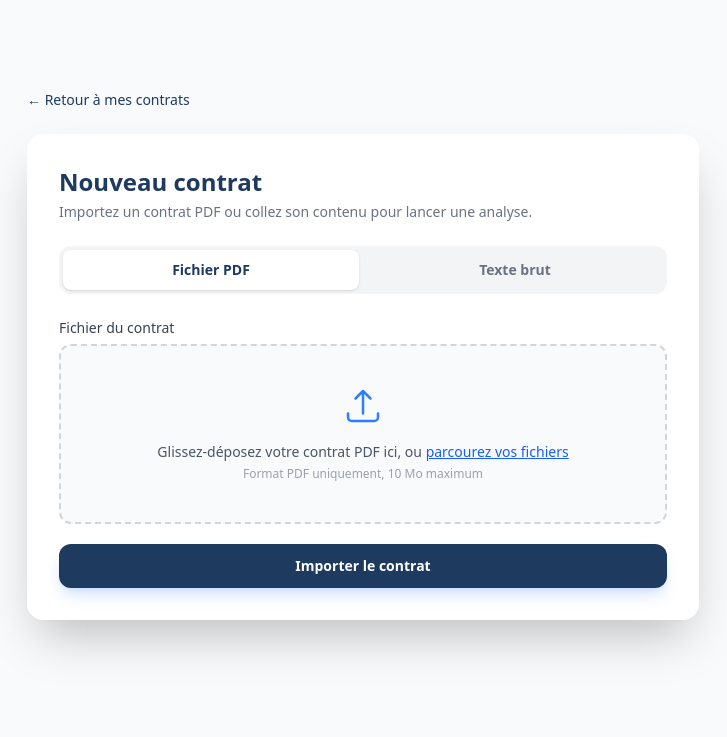
ContractNewPage › validates text mode content before submitting
Click the button "Texte brut". click: [515, 270]
box: [367,250,663,290]
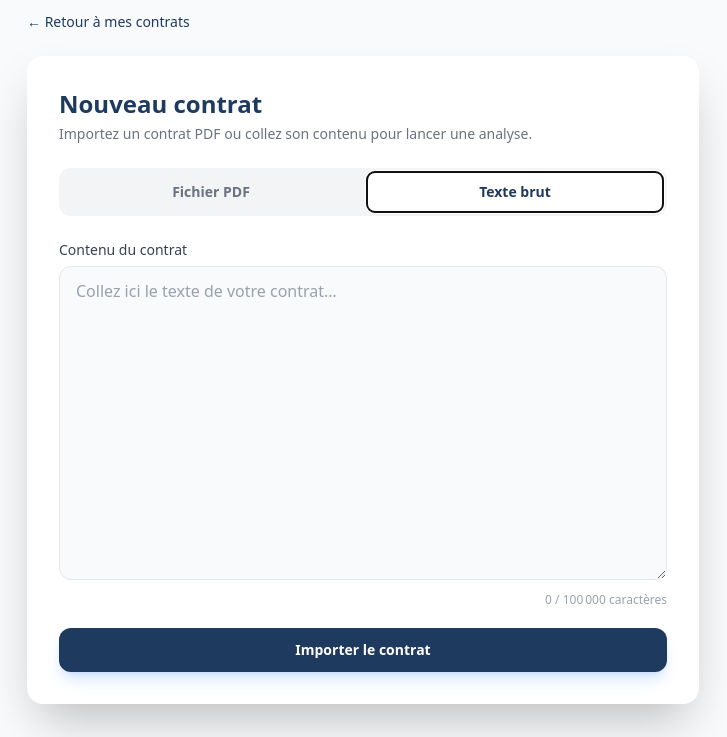
Click the button "Importer le contrat". click: [363, 650]
box: [59,628,667,672]
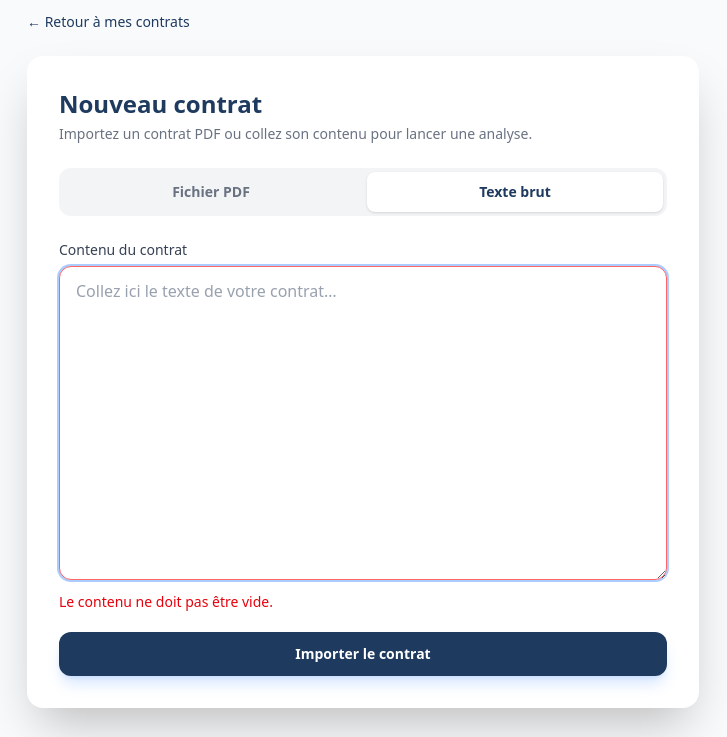
Expected: the text "Le contenu ne doit pas être vide." is shown, [59,592,273,611]
